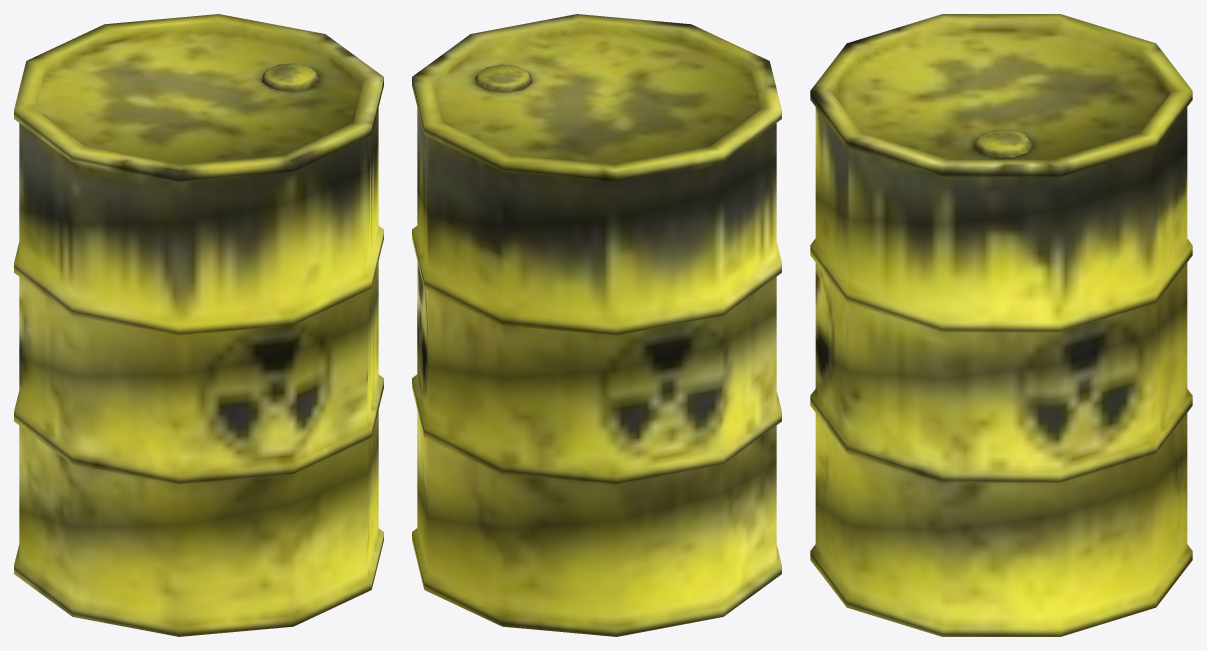
Rendered from Fallout.glb.
3 renders of one model, left to right at view 1: azimuth 30°, elevation 25°; view 2: azimuth 150°, elevation 25°; view 3: azimuth 270°, elevation 25°, orthographic.
Parts seen in each view (by area): view 1: low; view 2: low; view 3: low.
Boxes of the visible parts, x1,y1,x2,y2 form: low: [14, 14, 383, 636]; low: [412, 14, 781, 636]; low: [810, 14, 1192, 636].
Size of the model in its own units: 0.8255 by 1.18 by 0.868.
Materials: 1 (1 with a texture image).
